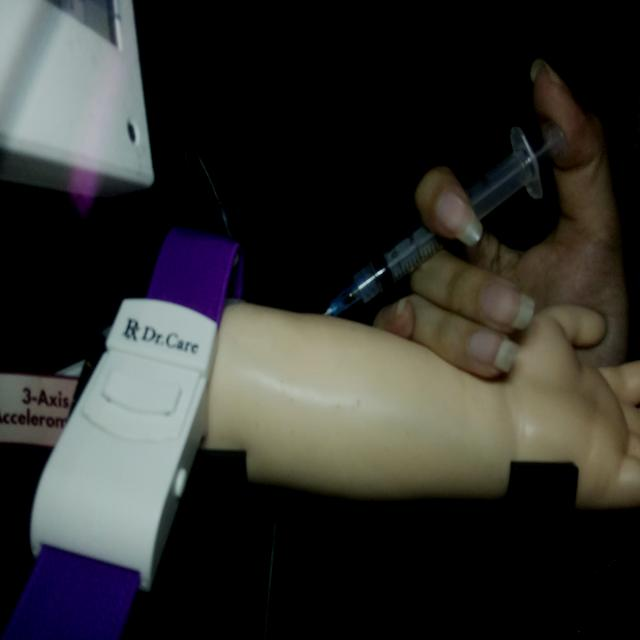27 degrees: (322, 117, 567, 319)
